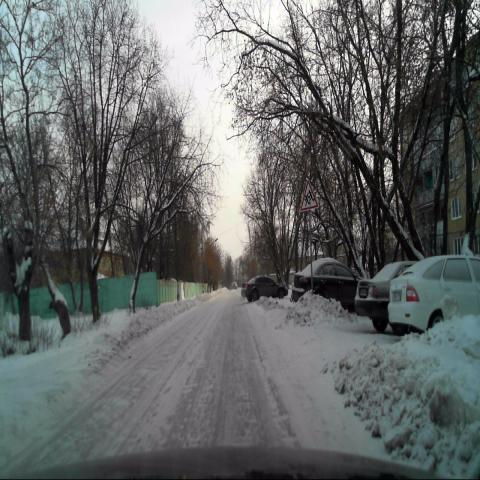1_23: (301, 180, 318, 211)
